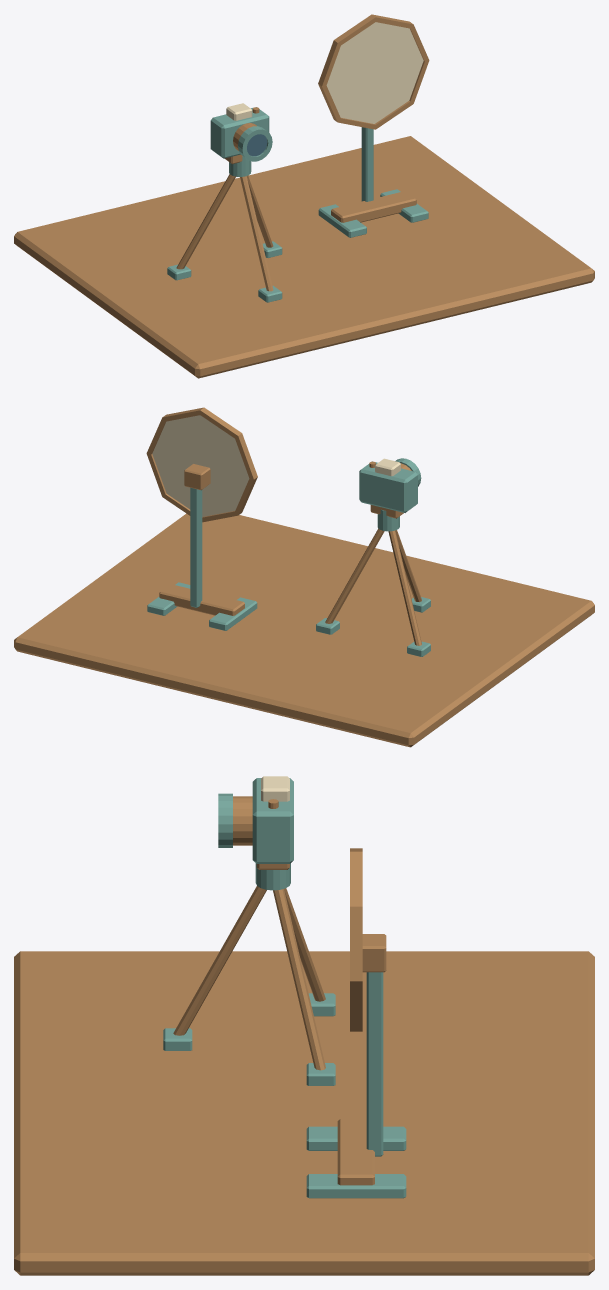
3 views of the same model, one above another, from view 1: azimuth 30°, elevation 25°; view 2: azimuth 150°, elevation 25°; view 3: azimuth 270°, elevation 25° (orthographic). The views are drawn at different scales.
Visible parts, largest first — view 1: photography-corner-scene-01; view 2: photography-corner-scene-01; view 3: photography-corner-scene-01.
Part boxes in pixels (bbox=[...]): photography-corner-scene-01: bbox=[14, 14, 594, 378]; photography-corner-scene-01: bbox=[14, 407, 594, 747]; photography-corner-scene-01: bbox=[14, 776, 594, 1275].
Size of the model in its own units: 3.5 by 1.8 by 2.8.
